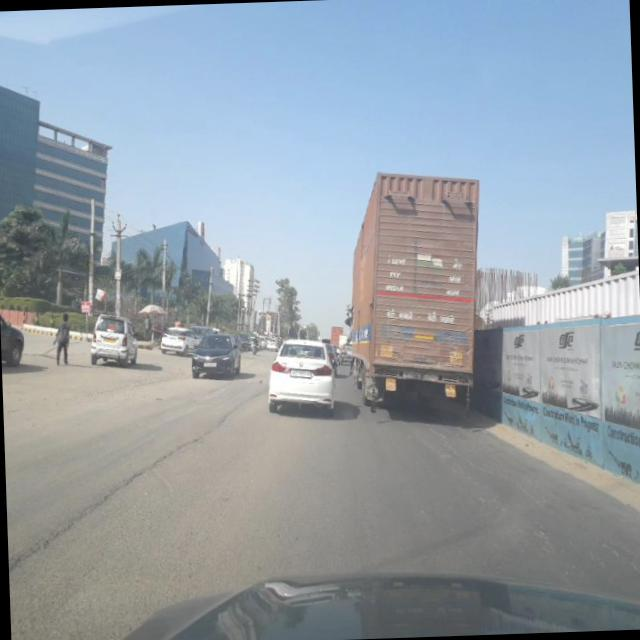crack: (429, 405, 640, 583)
